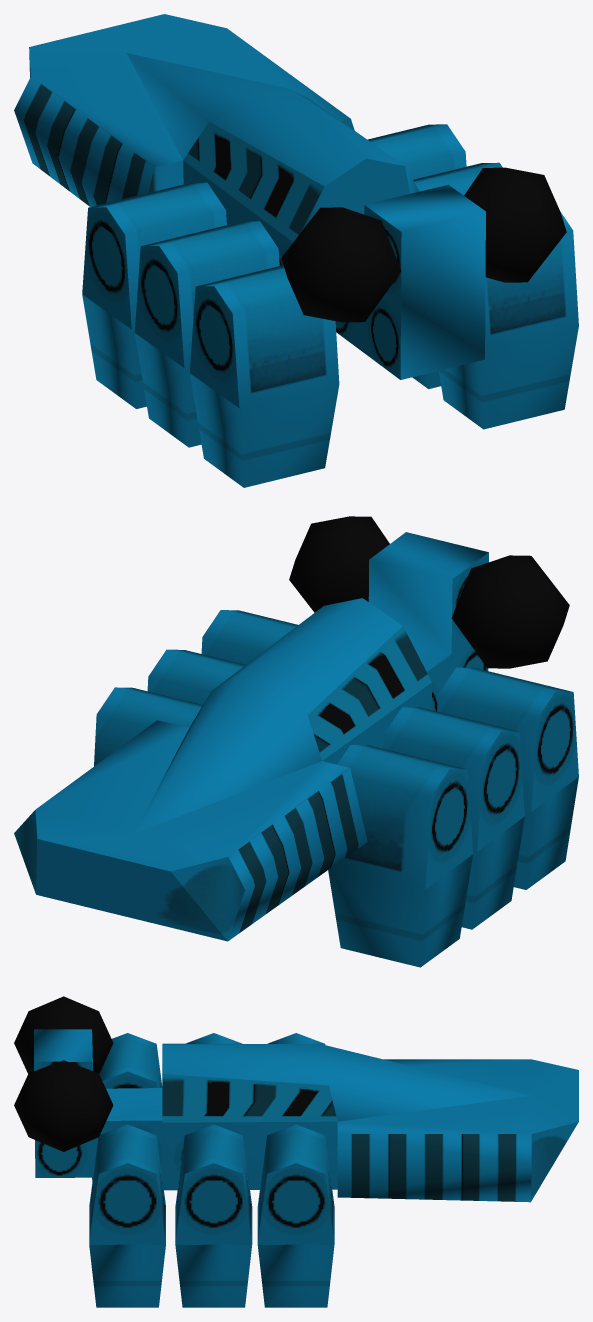
The model's file is bbug.obj.
3 views of the same model, one above another, from view 1: azimuth 30°, elevation 25°; view 2: azimuth 150°, elevation 25°; view 3: azimuth 270°, elevation 25° (orthographic). The views are drawn at different scales.
Size of the model in its own units: 0.9468 by 0.7356 by 1.74.
